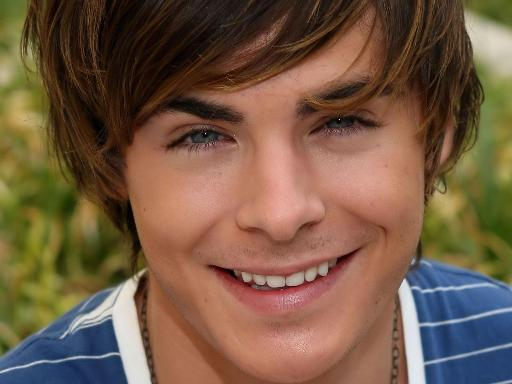left_eye: (308, 113, 380, 139)
left_lip_corner: (341, 242, 372, 265)
right_eye: (167, 128, 240, 154)
right_lip_corner: (200, 260, 229, 278)
